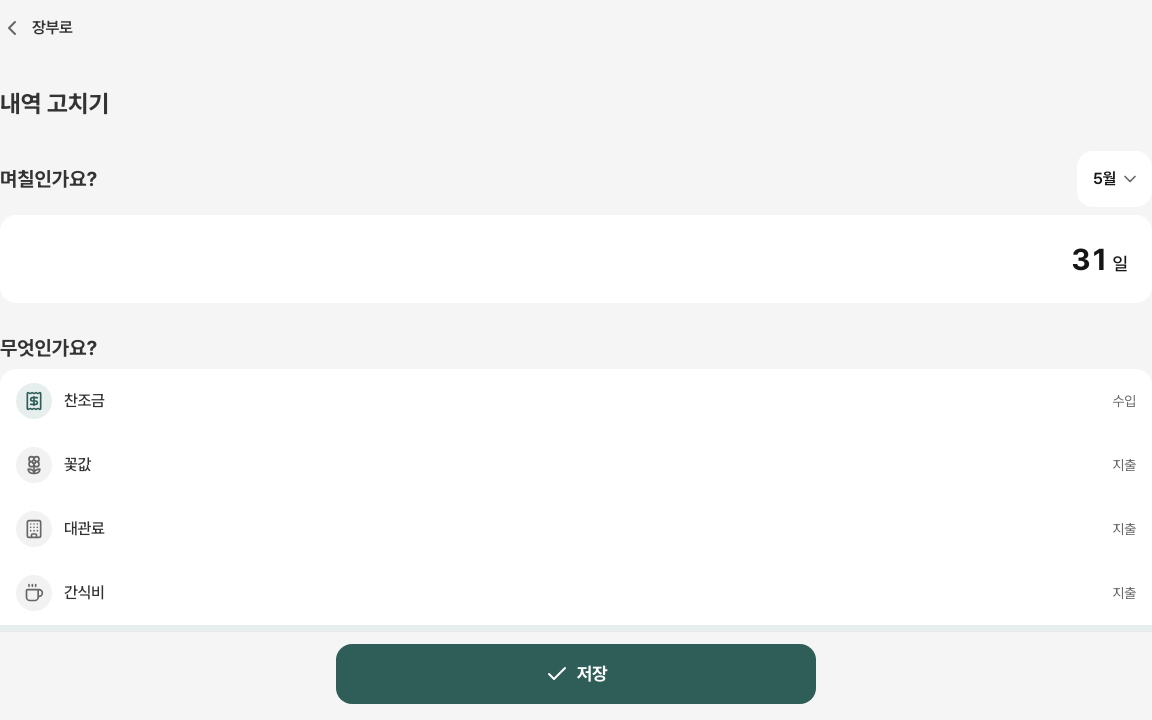
Test: SPEC-001 내역 고치기 (펼친 모양) › AC-25 날짜 › 달을 바꿔 그 날이 그 달에 없으면(31일 → 2월) 칸을 비우고 [저장] 비활성 + "며칠인지 적어 주세요"
This screenshot has width=1152, height=720.
Click the button "5월" at [1114, 179], box x1=1077 y1=151 x2=1151 y2=207
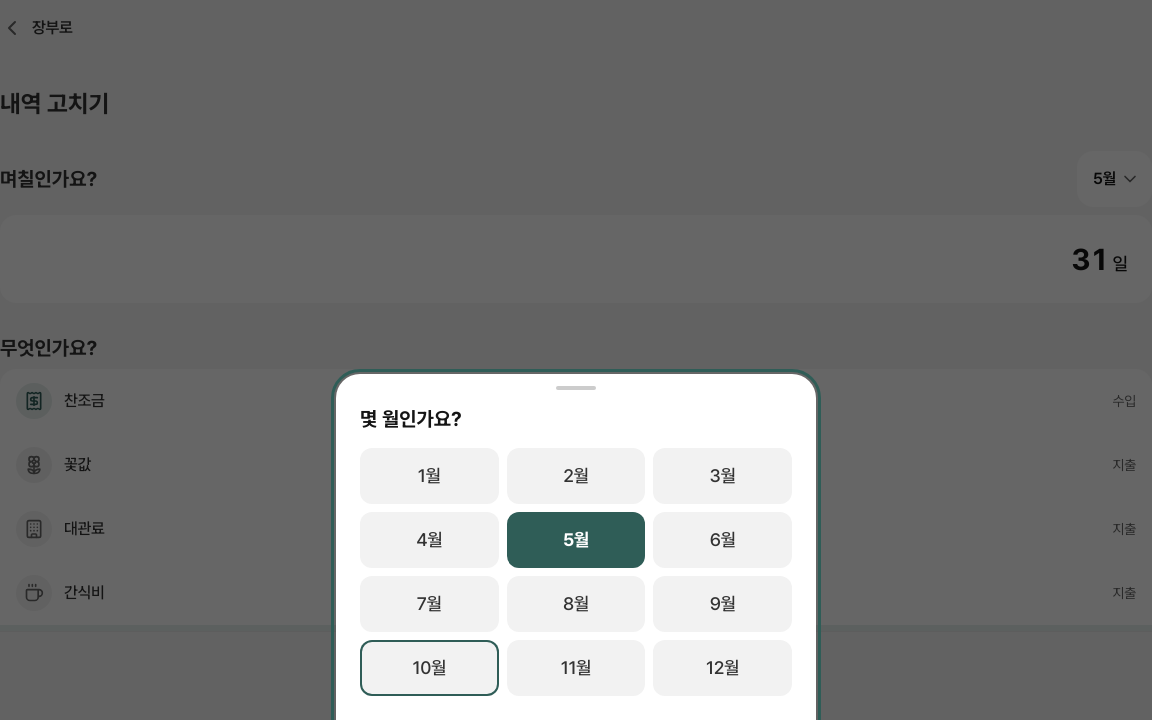
Click the button "2월" at [576, 476], box x1=507 y1=448 x2=645 y2=504
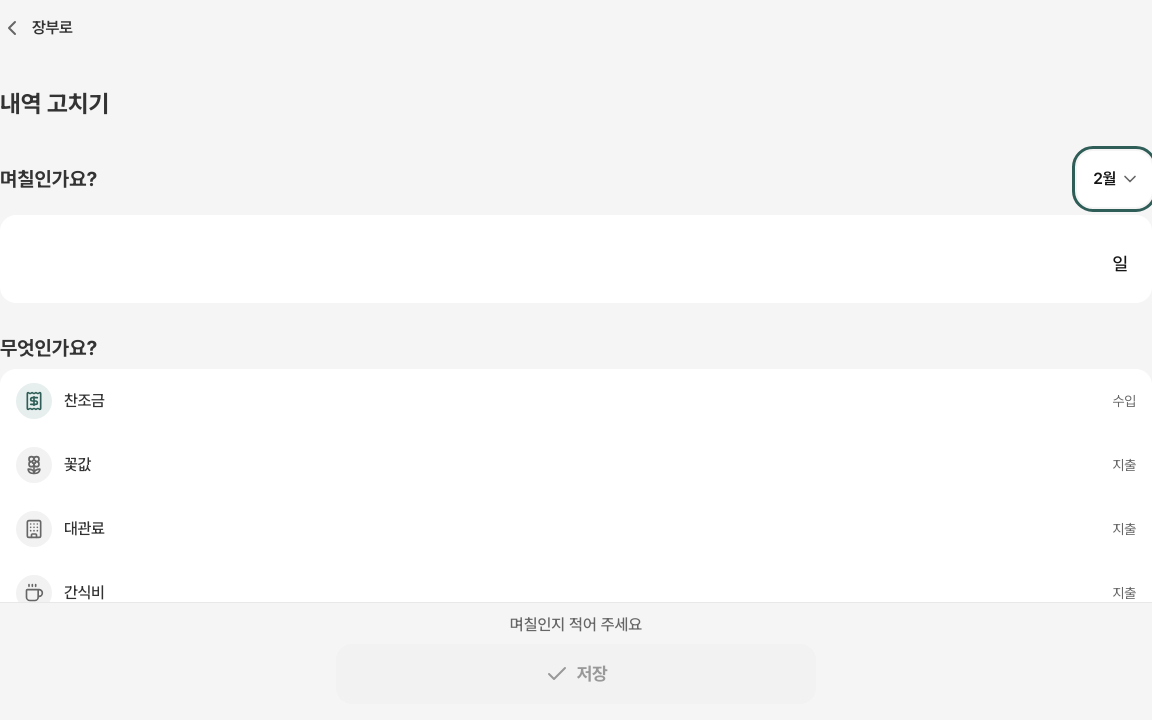
Expected: the field named "며칠인가요?" is empty, x1=24 y1=231 x2=1108 y2=287
Result: the button "저장" is disabled at x1=336 y1=644 x2=816 y2=704
